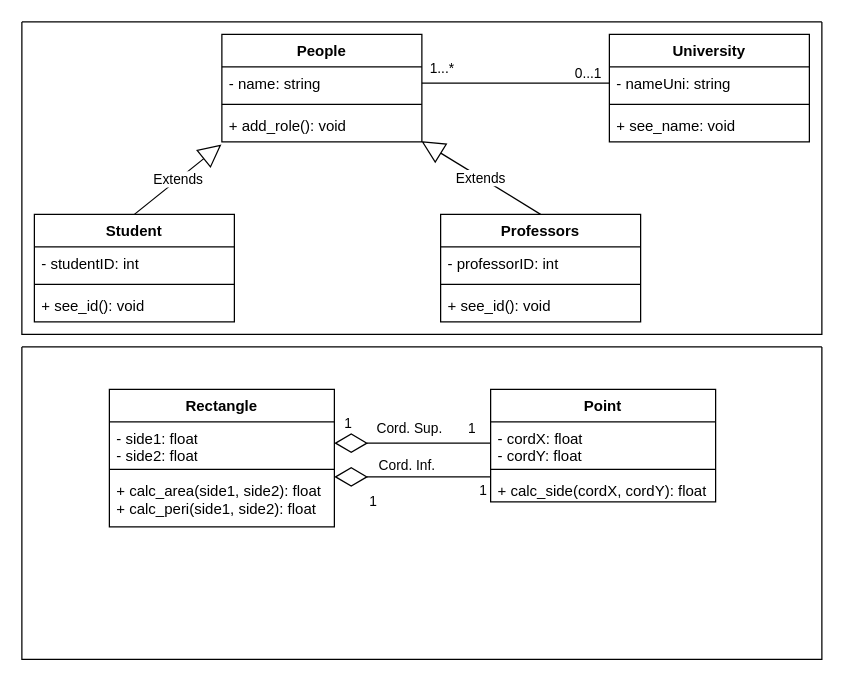
Some shapes in this 844 by 681 pixel diagram are drawn without their labels. Here are the shapes that lost their labels. From the top down, the box of each, then its label:
(21, 21, 822, 334): Ex 1.1)
(21, 346, 822, 659): Ex 1.2)
